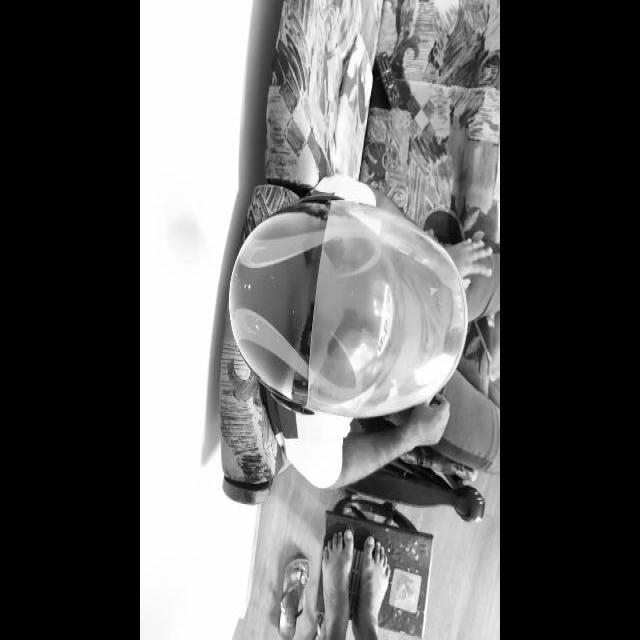5_casco: (228, 188, 470, 416)
